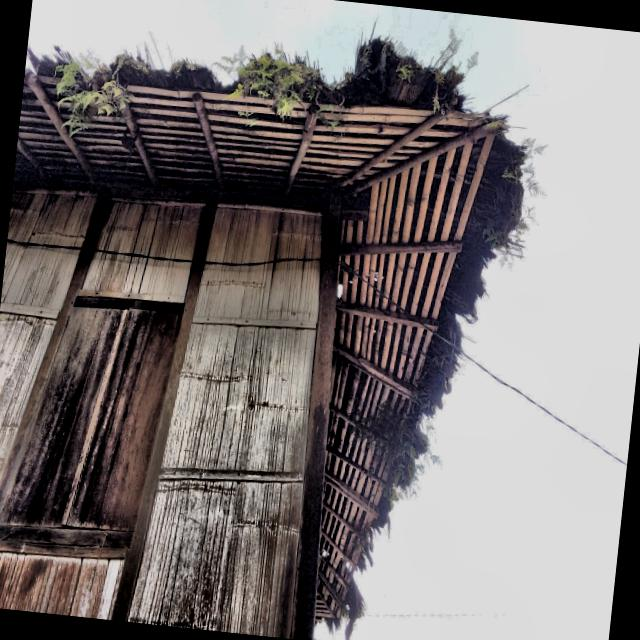roof: (13, 39, 522, 626)
wall: (0, 187, 323, 639)
window: (1, 306, 181, 530)
